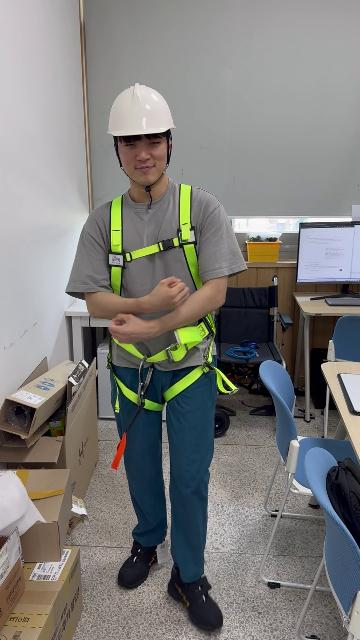helmet_worn: (105, 83, 178, 138)
shoe_worn: (168, 567, 222, 632), (117, 540, 159, 589)
vest_worn: (100, 198, 229, 423)
